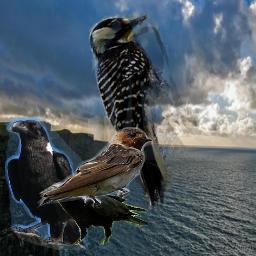Crow: (5, 117, 88, 250), (39, 182, 148, 245)
Swallow: (37, 126, 153, 210)
Woodpecker: (88, 14, 186, 214)
